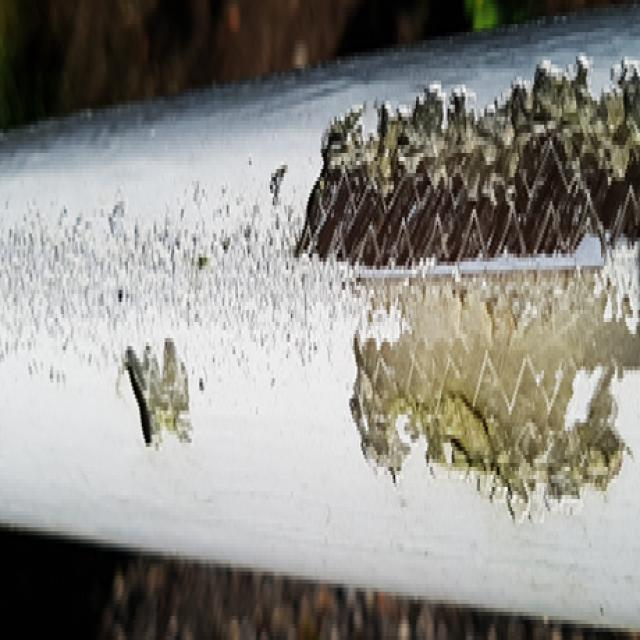Erosion: (2, 62, 640, 521)
